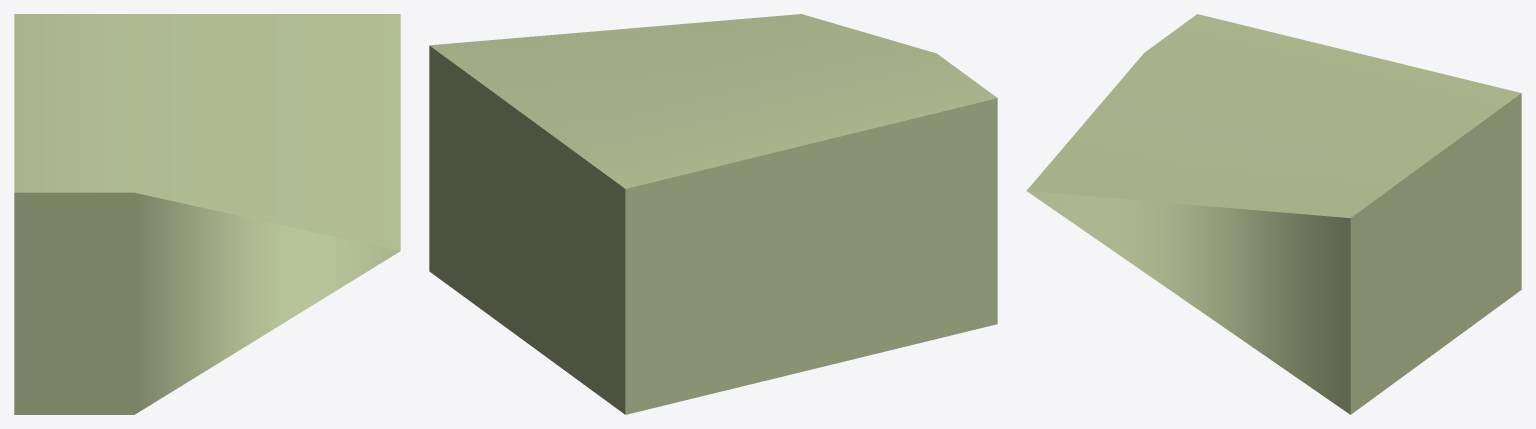
The model's file is ground_7.gltf.
3 renders of one model, left to right at view 1: azimuth 30°, elevation 25°; view 2: azimuth 150°, elevation 25°; view 3: azimuth 270°, elevation 25°, orthographic. The views are drawn at different scales.
Parts seen in each view (by area): view 1: o_ground_7; view 2: o_ground_7; view 3: o_ground_7.
Boxes of the visible parts, x1,y1,x2,y2 form: o_ground_7: (14, 14, 400, 414); o_ground_7: (429, 14, 997, 414); o_ground_7: (1026, 14, 1521, 414).
Bounding box in the file's own units: 20.6 × 9.26 × 21.11.
